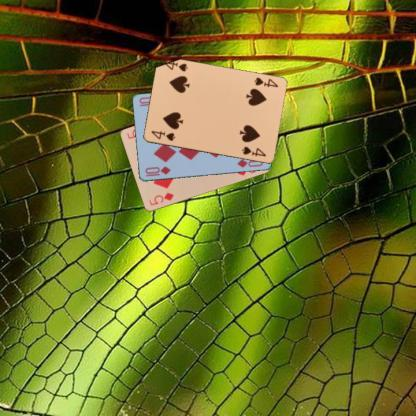10d: (142, 163, 172, 178)
4s: (251, 75, 279, 89), (149, 128, 176, 142)
5d: (146, 189, 175, 207)
